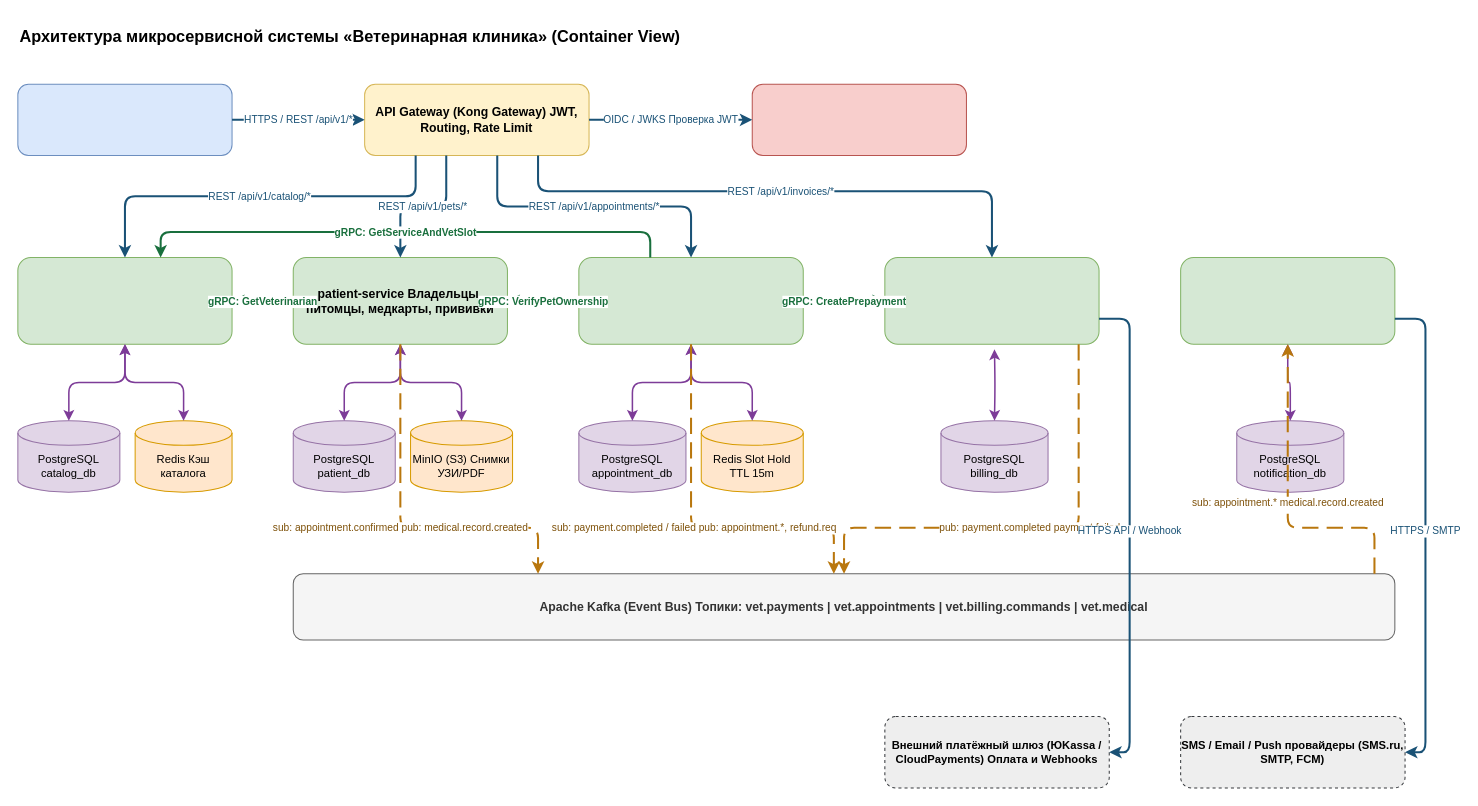
Image size: 1478x806. Some labels were removed from this diagram. Here are the shapes that lost their labels. From the top down, the centre of each, then its label:
the point at 124,119: Веб / Мобильный клиент (Владелец, Врач, Админ)
the point at 858,119: Keycloak (OAuth 2.0 / OIDC) Выдача и проверка JWT
the point at 124,300: clinic-catalog-service Врачи, филиалы, услуги, расписание
the point at 690,300: appointment-service Запись на приём, слоты, оркестратор Саги
the point at 991,300: billing-service Счета, предоплата, возвраты (Refunds)
the point at 1287,300: notification-service Уведомления и напоминания
